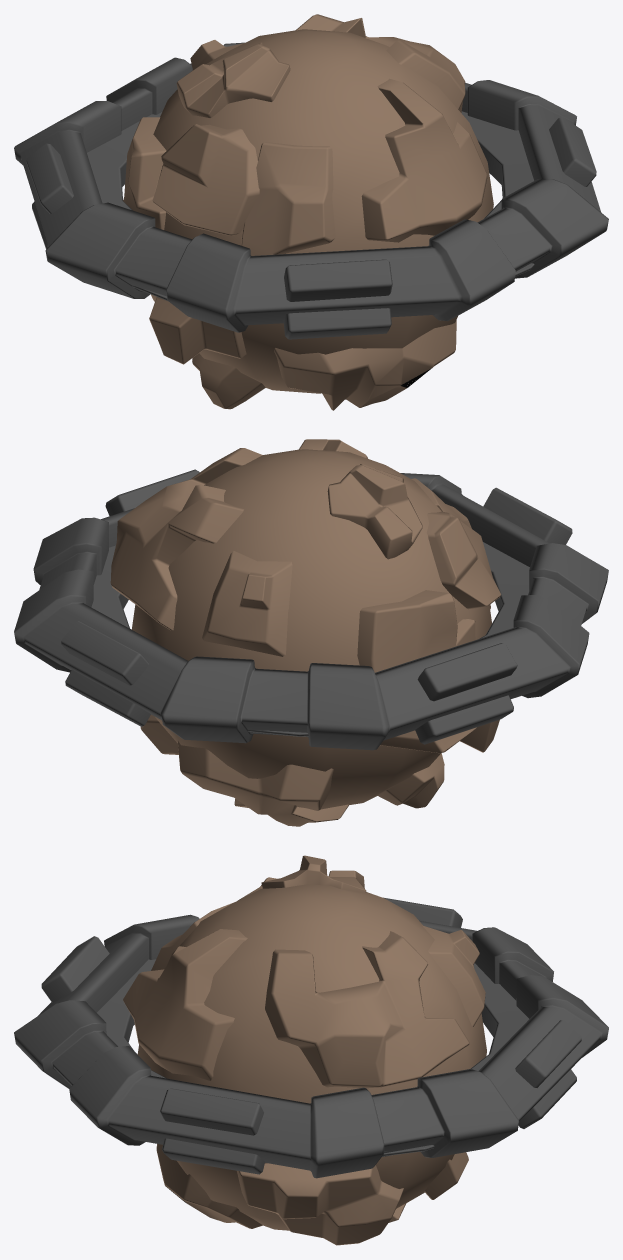
Rendered from Planet.glb.
The picture shows the model from 3 angles, top to bottom: view 1: azimuth 30°, elevation 25°; view 2: azimuth 150°, elevation 25°; view 3: azimuth 270°, elevation 25°; orthographic projection. The views are drawn at different scales.
Visible parts, largest first — view 1: Planet, Orbital_structure_02, Orbital_structure_01; view 2: Planet, Orbital_structure_02, Orbital_structure_01; view 3: Planet, Orbital_structure_02, Orbital_structure_01.
Part boxes in pixels (bbox=[...]): Planet: bbox=[123, 14, 493, 410]; Orbital_structure_02: bbox=[14, 42, 608, 339]; Orbital_structure_01: bbox=[87, 111, 534, 300]; Planet: bbox=[110, 439, 500, 826]; Orbital_structure_02: bbox=[14, 469, 608, 750]; Orbital_structure_01: bbox=[91, 542, 529, 736]; Planet: bbox=[123, 855, 486, 1245]; Orbital_structure_02: bbox=[14, 897, 608, 1178]; Orbital_structure_01: bbox=[97, 959, 528, 1156].
Size of the model in its own units: 46.02 by 29.03 by 46.03.
3 materials, 3 textured.
